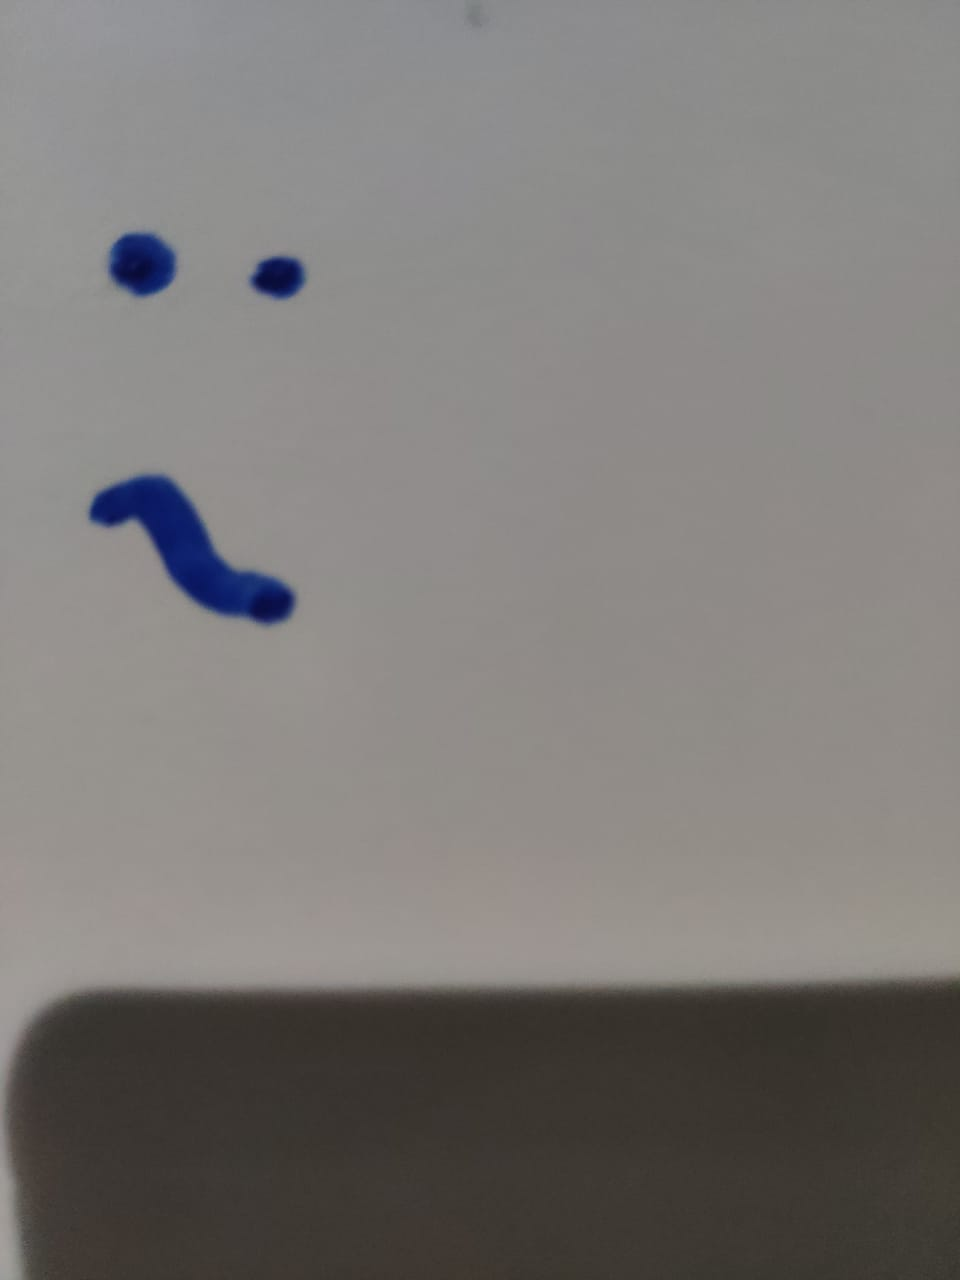triste: (29, 188, 482, 715)
